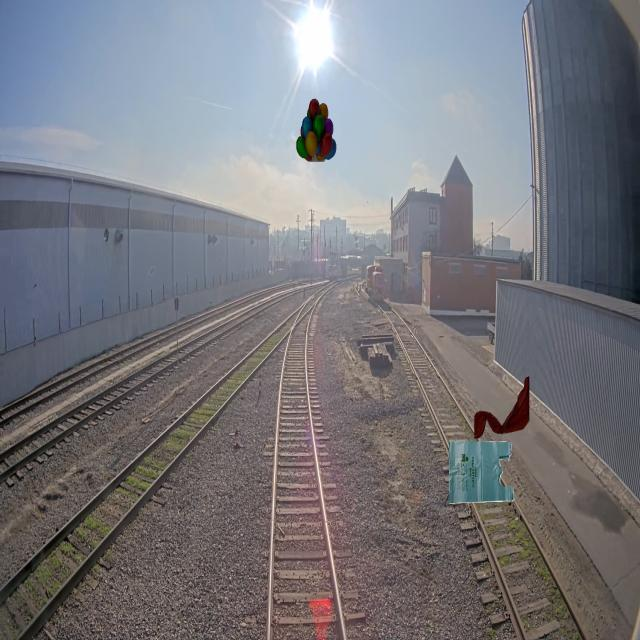balloon: (296, 98, 336, 162)
floating object: (474, 376, 529, 440)
plastic bag: (448, 439, 514, 504)
